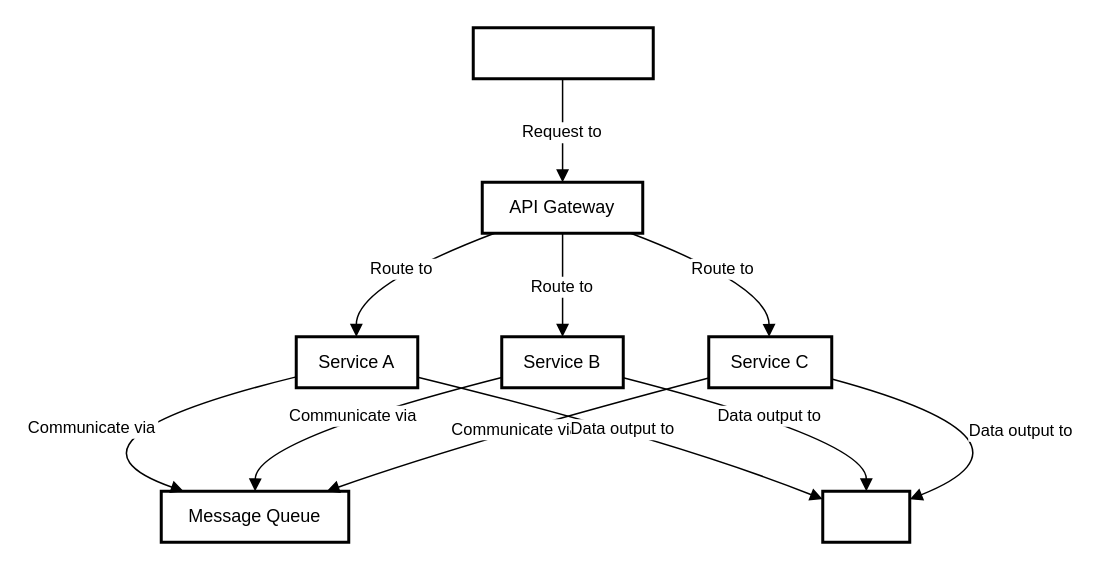
The diagram is 1100 pixels wide and 569 high, and some of its shapes have lost their labels. The shapes that lost their labels are listed below. From the top down, each one's centre as x and y in pixels, then its label:
At (x=562, y=53): "Client Request".
At (x=865, y=516): "Client".
